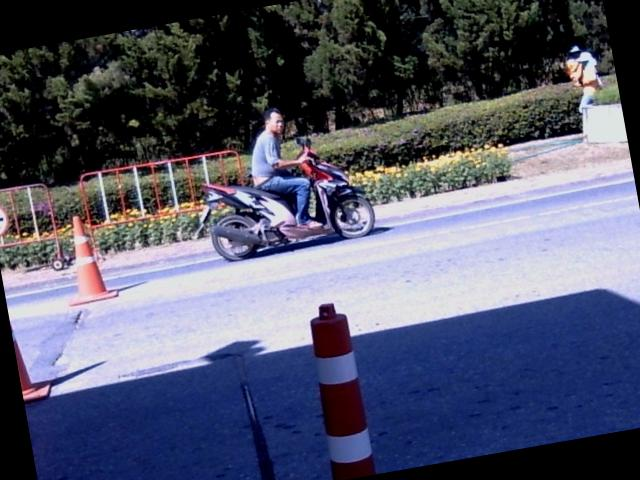motor: (195, 138, 373, 260)
no-helmet: (265, 107, 283, 131)
person: (250, 108, 320, 227)
